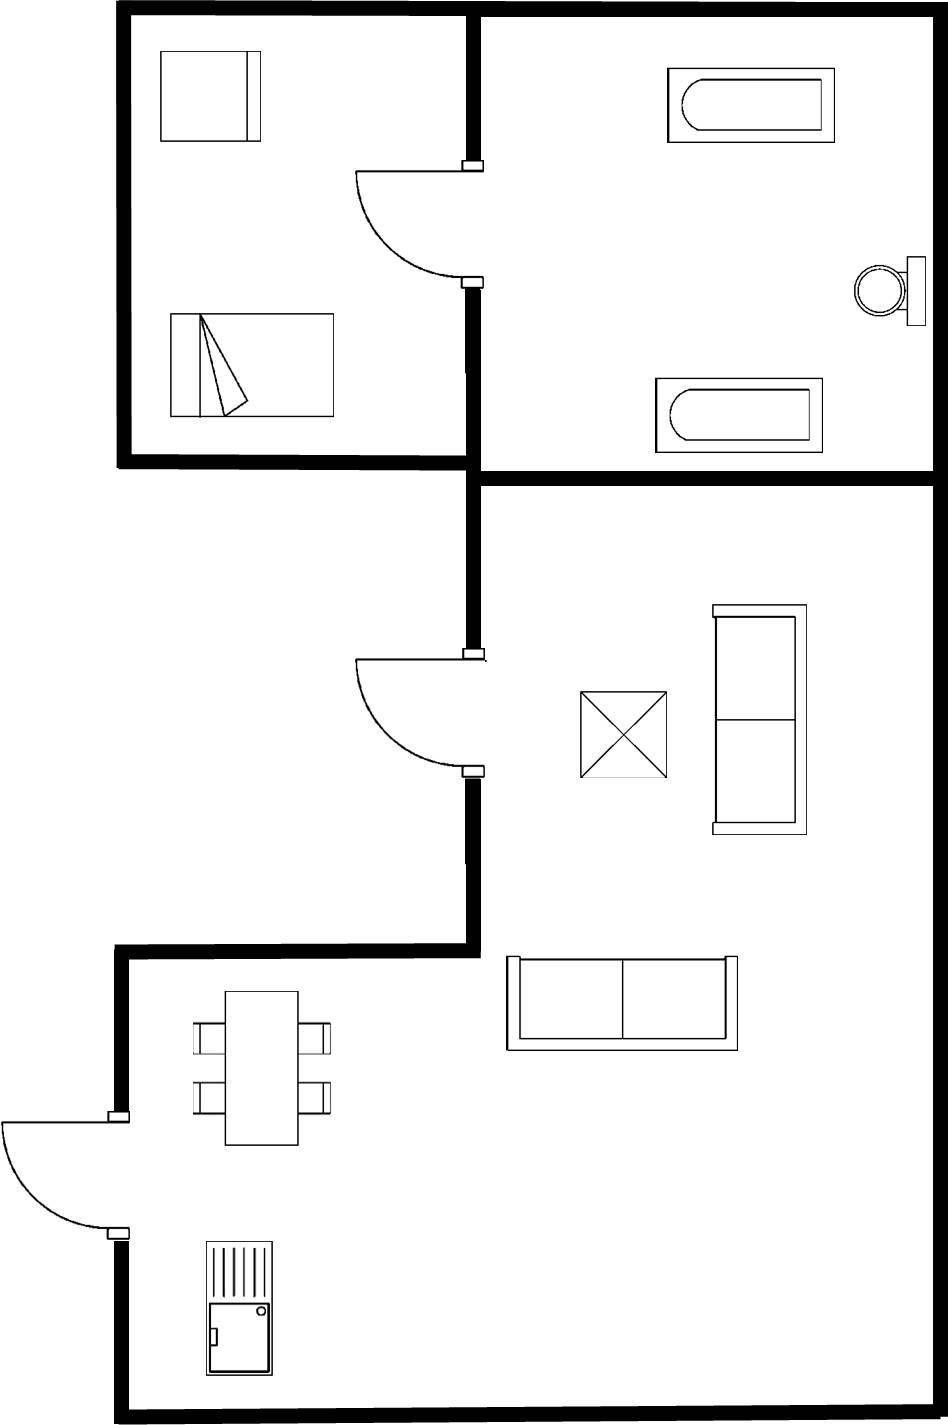bed: (162, 307, 338, 423)
dining_table: (187, 983, 338, 1155)
sink: (198, 1234, 279, 1386)
sofa: (498, 948, 744, 1058), (704, 597, 810, 843)
toilet: (847, 248, 930, 327)
tub: (658, 58, 841, 156), (648, 369, 829, 457)
